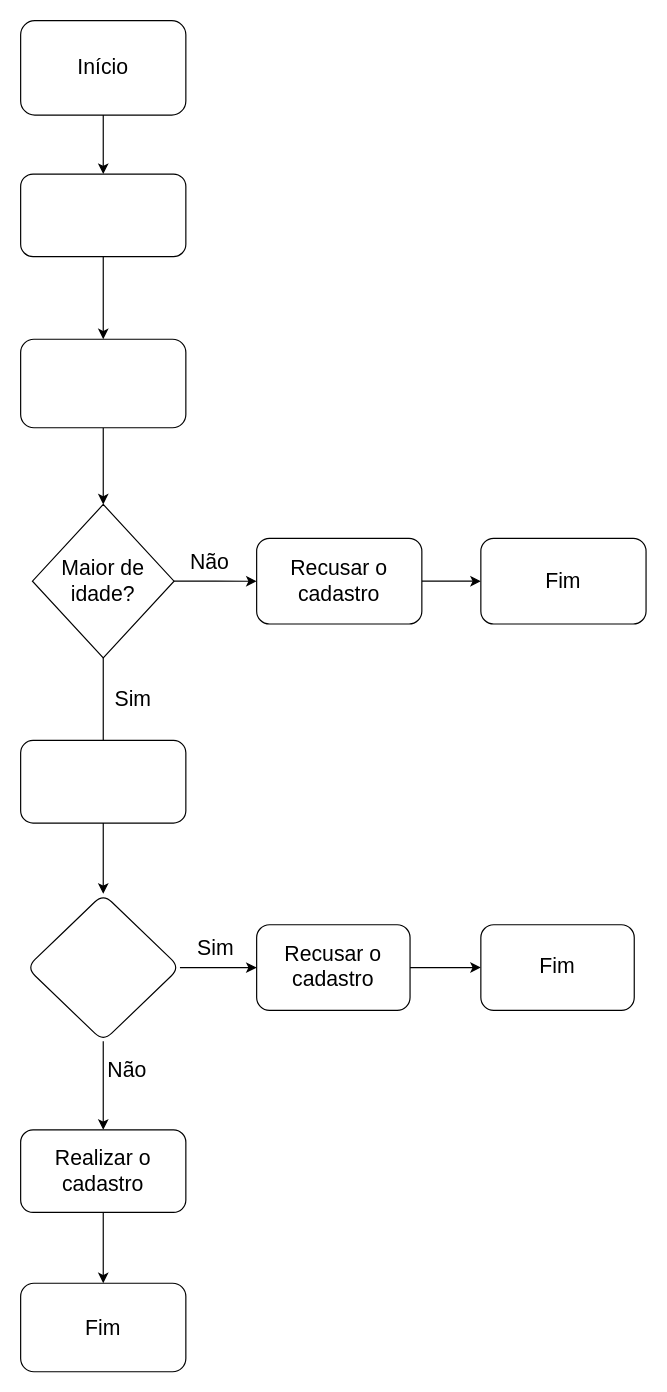
This 667x1392 diagram has some shape labels left out. Each missing label, with the centre of its shape:
"Pedir nome, email e data de nascimento" belongs at (102,215).
"Tem mais de 100 pessoas?" belongs at (102,967).
"Verificar a idade" belongs at (102,383).
"Verificar a quantidade de pessoas na lista" belongs at (102,781).
